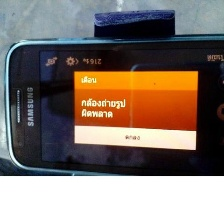phone: (2, 30, 223, 181)
